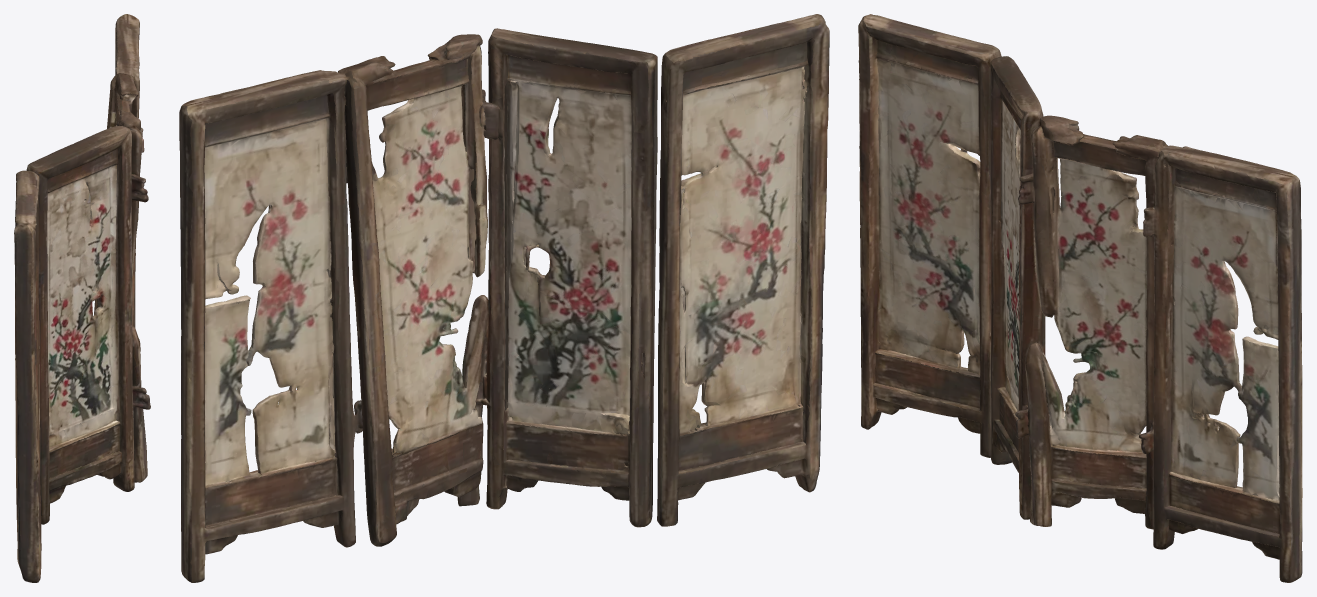
File: screen-broken.glb
The picture shows the model from 3 angles, left to right: view 1: azimuth 30°, elevation 25°; view 2: azimuth 150°, elevation 25°; view 3: azimuth 270°, elevation 25°; orthographic projection. The views are drawn at different scales.
Parts seen in each view (by area): view 1: geometry_0; view 2: geometry_0; view 3: geometry_0.
Boxes of the visible parts, x1,y1,x2,y2 form: geometry_0: (14, 14, 150, 582); geometry_0: (179, 14, 829, 582); geometry_0: (858, 14, 1302, 582).
Size of the model in its own units: 1.2 by 1.34 by 1.32.
1 material, 1 textured.
